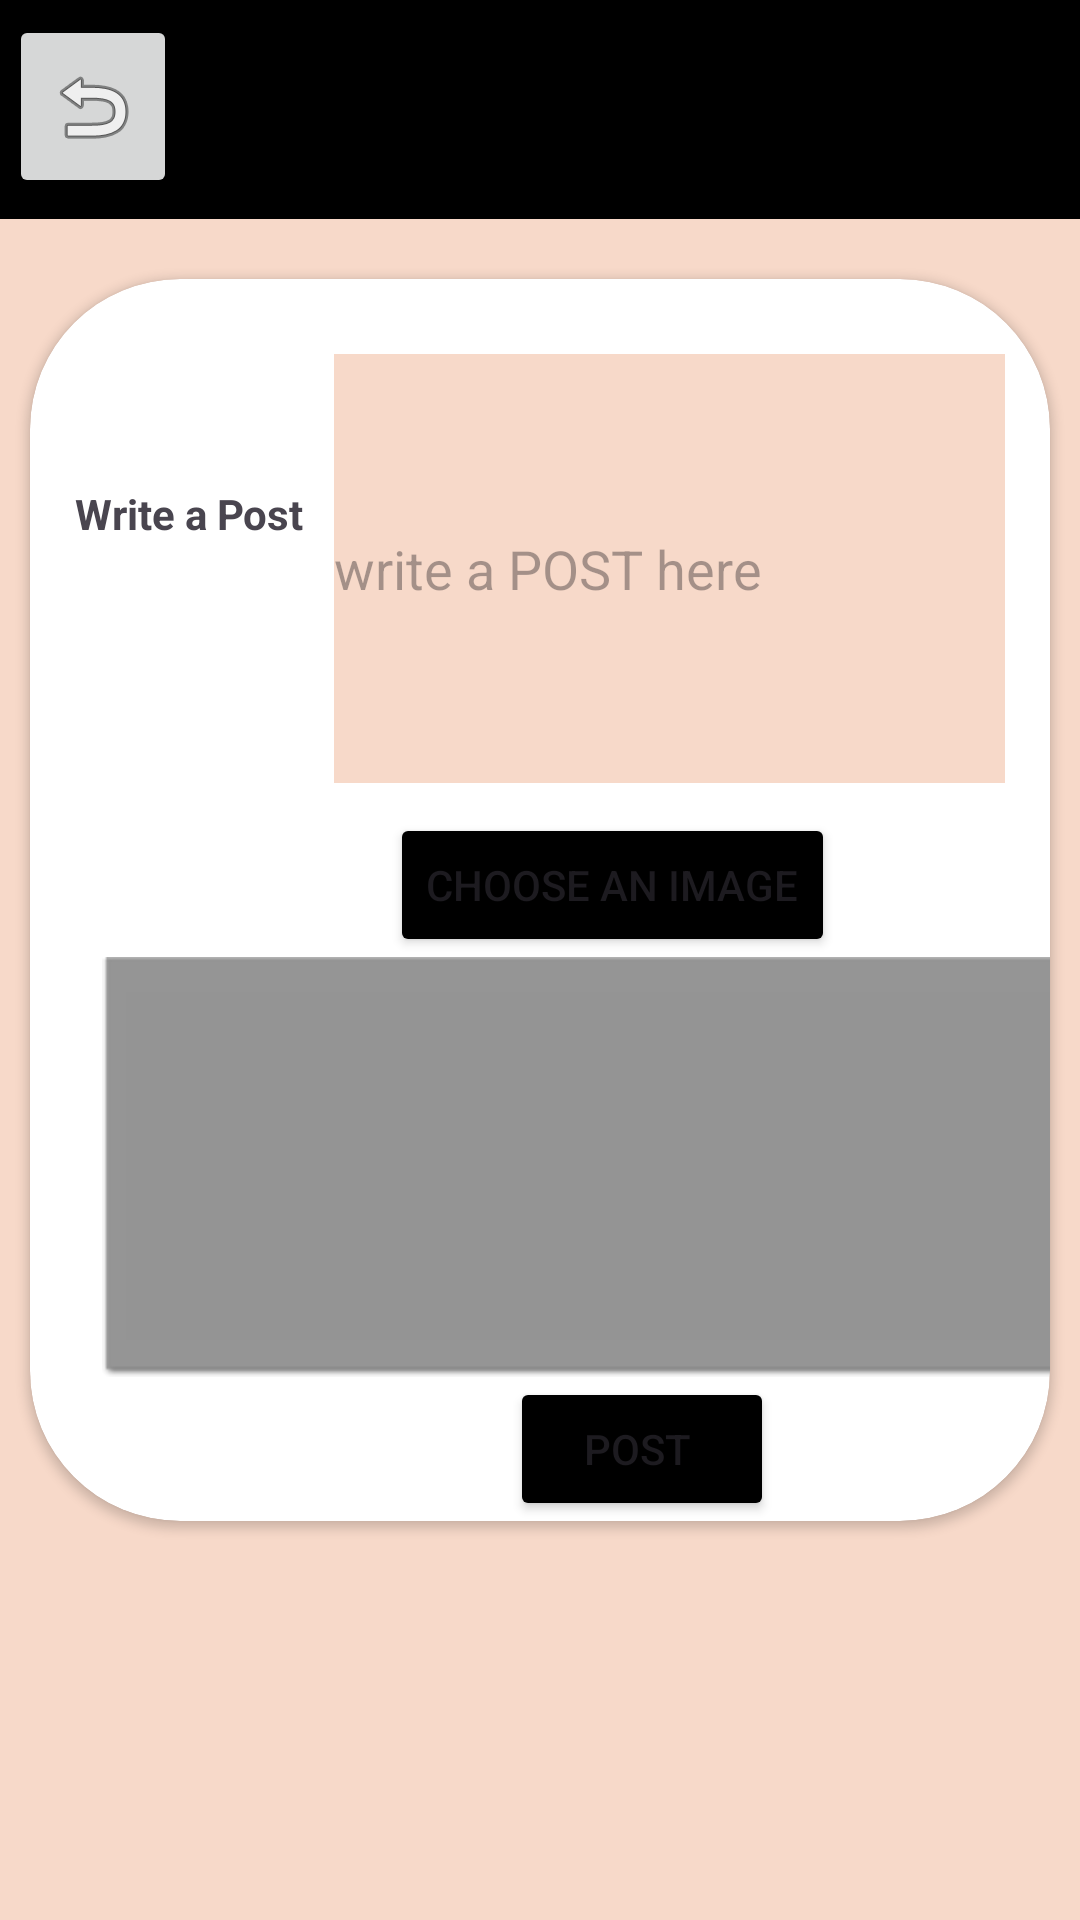

Screen size 1080x1920. Icon name, then its box in pixels as (x1, y1, x2, y2):
back: (21, 33, 165, 180)
